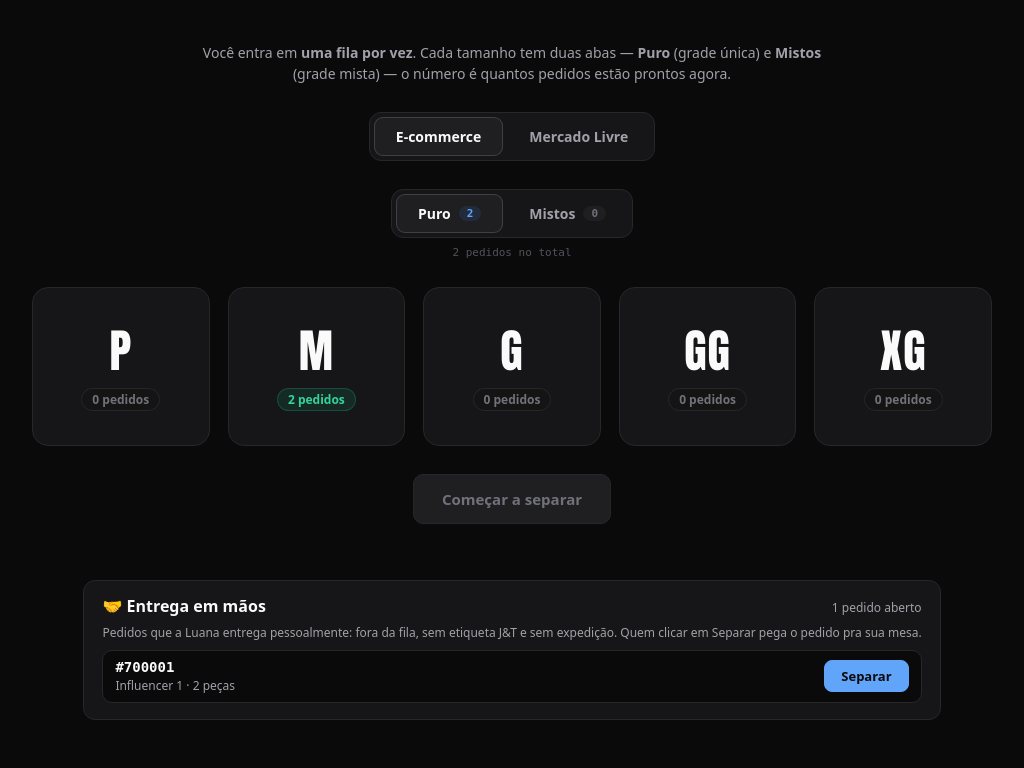
Scenario: Tela de filas: Entrega em mãos › 409 pedido_indisponivel vira aviso com a mensagem do servidor e recarrega a lista
(page scrolled)
Click the button "Separar". click: [866, 676]
box: [824,660,909,692]
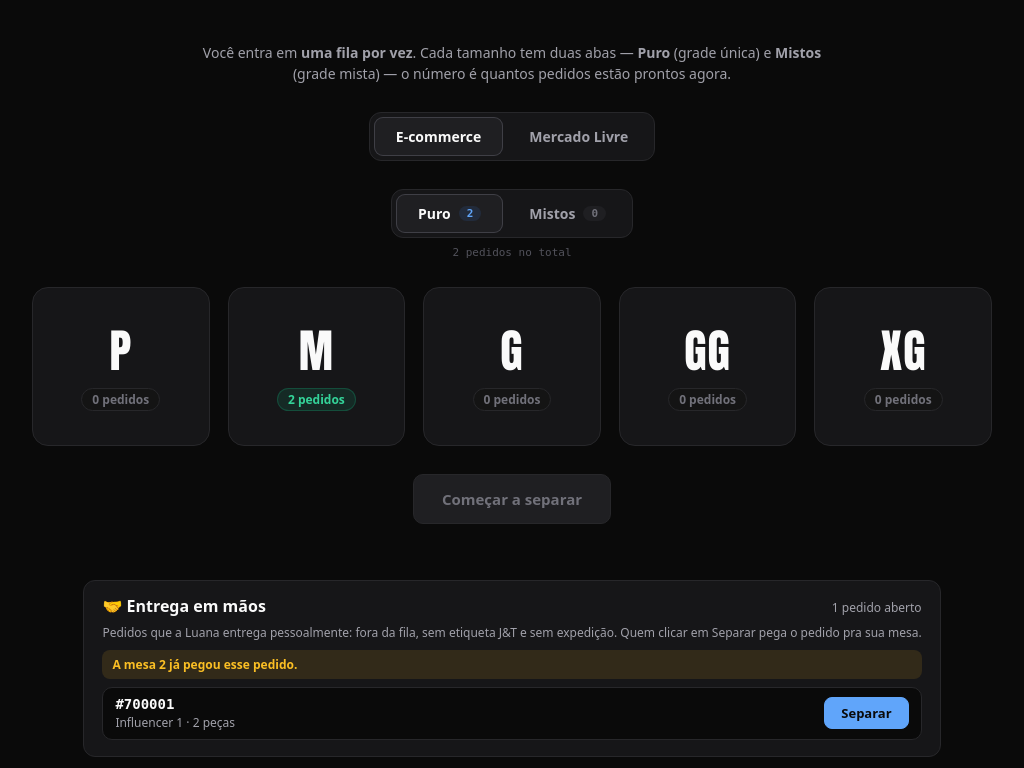
Check: the text "A mesa 2 já pegou esse pedido." is shown, box [102,650,922,679]
